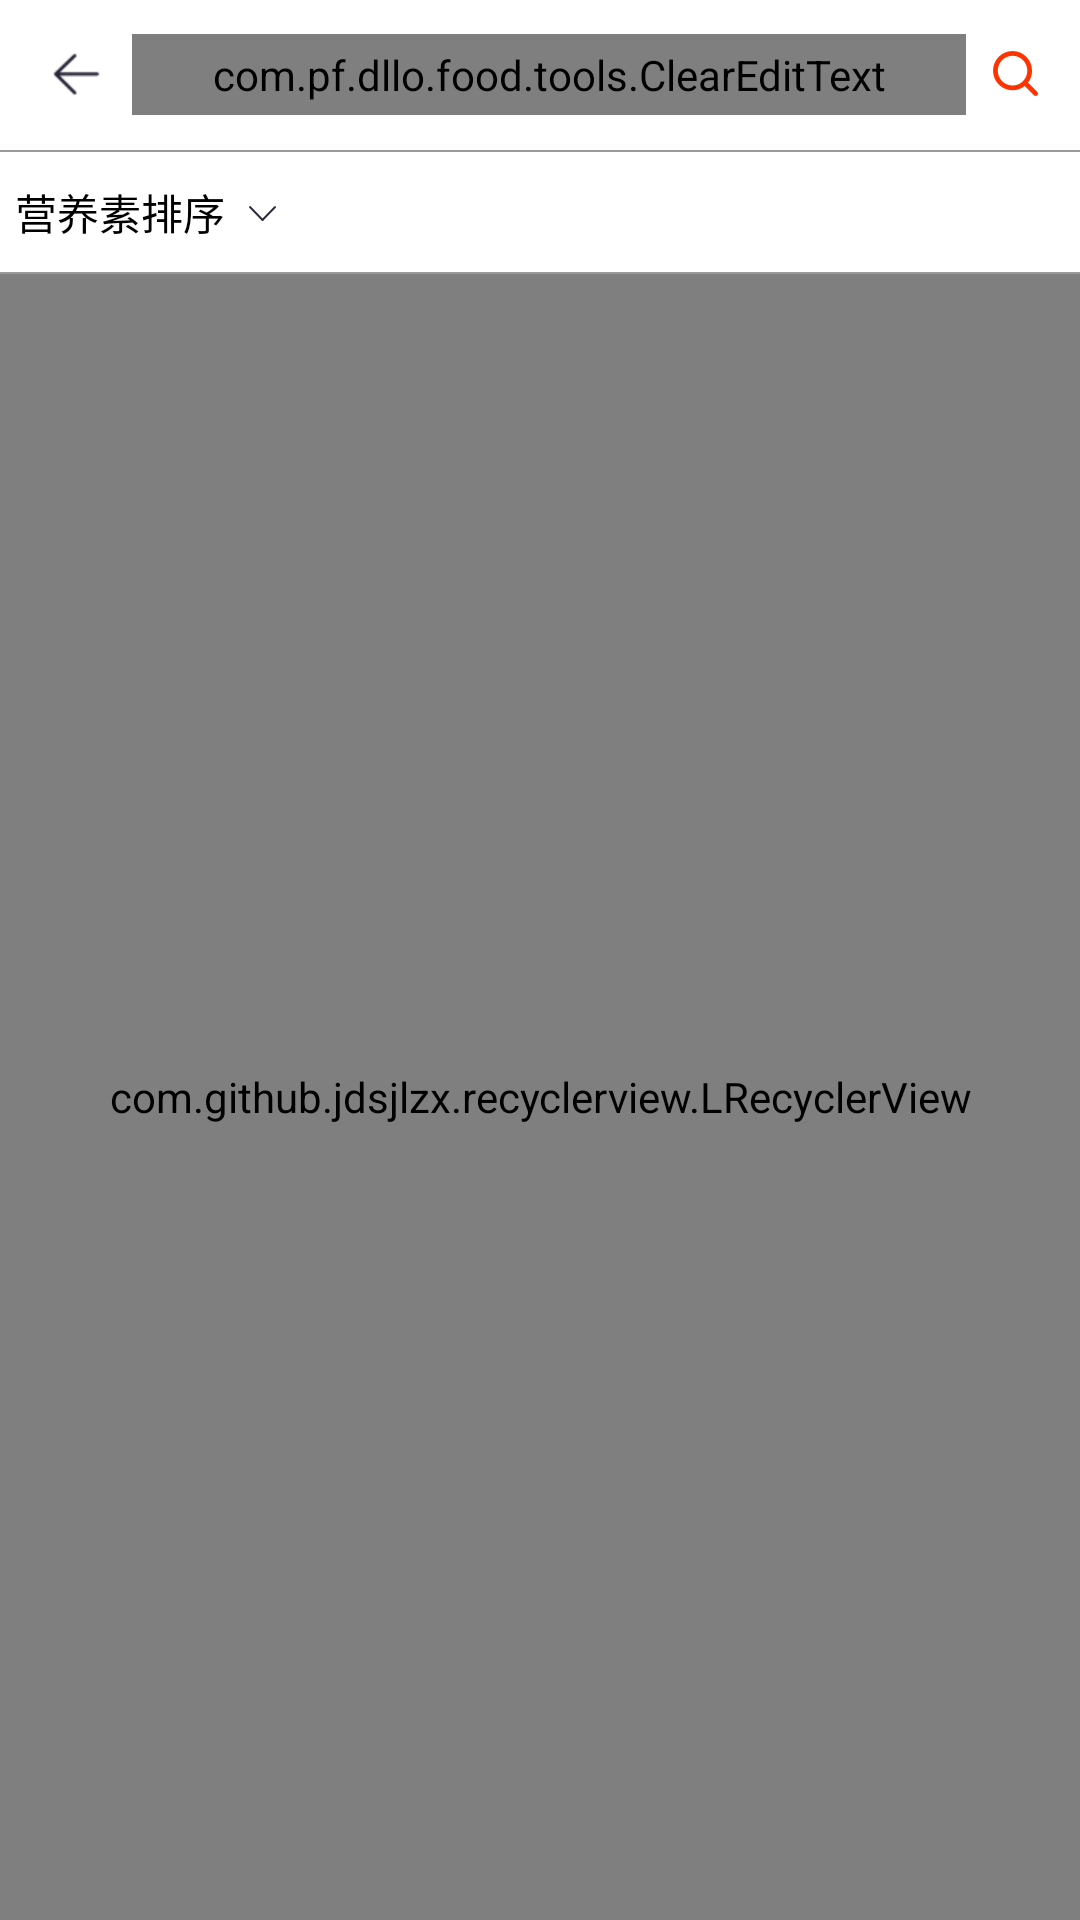

Where icons sit on this 1080w x 1920h app screen, as [x1, y1, x2, y2]:
back center: [53, 53, 100, 95]
food arrow ordering: [249, 206, 276, 221]
homepage search: [993, 51, 1038, 96]
